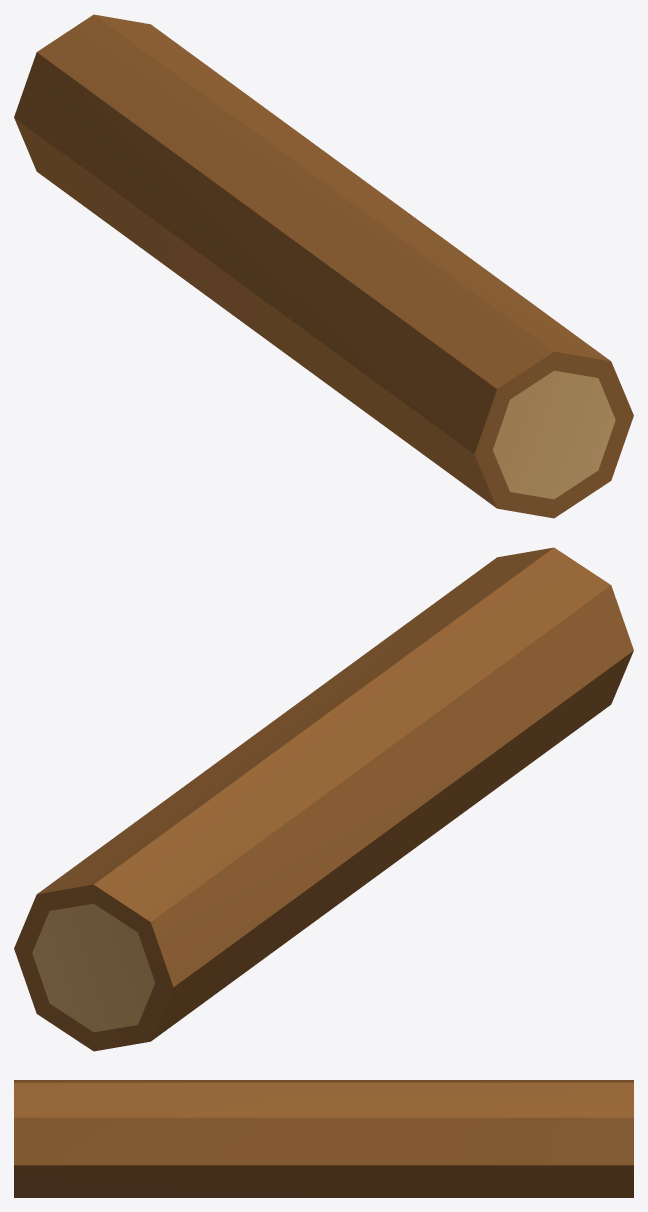
The model's file is Log_01.fbx.
3 renders of one model, top to bottom at view 1: azimuth 30°, elevation 25°; view 2: azimuth 150°, elevation 25°; view 3: azimuth 270°, elevation 25°, orthographic. The views are drawn at different scales.
Parts seen in each view (by area): view 1: Log_01; view 2: Log_01; view 3: Log_01.
Part boxes in pixels (left/top/right/bottom): Log_01: left=14, top=14, right=633, bottom=518; Log_01: left=14, top=547, right=633, bottom=1051; Log_01: left=14, top=1080, right=633, bottom=1197.
Size of the model in its own units: 0.4 by 0.4 by 2.
